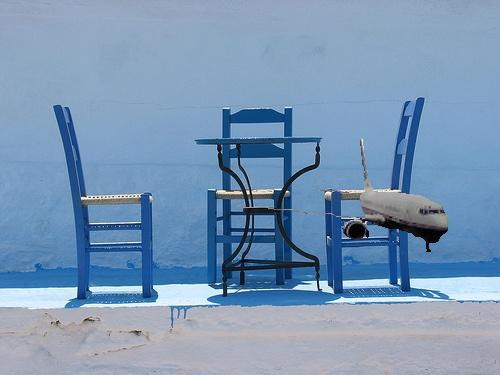tampered: (236, 139, 448, 252)
